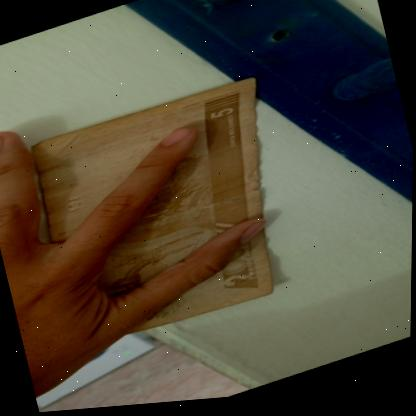five-back-vef: (28, 71, 308, 361)
